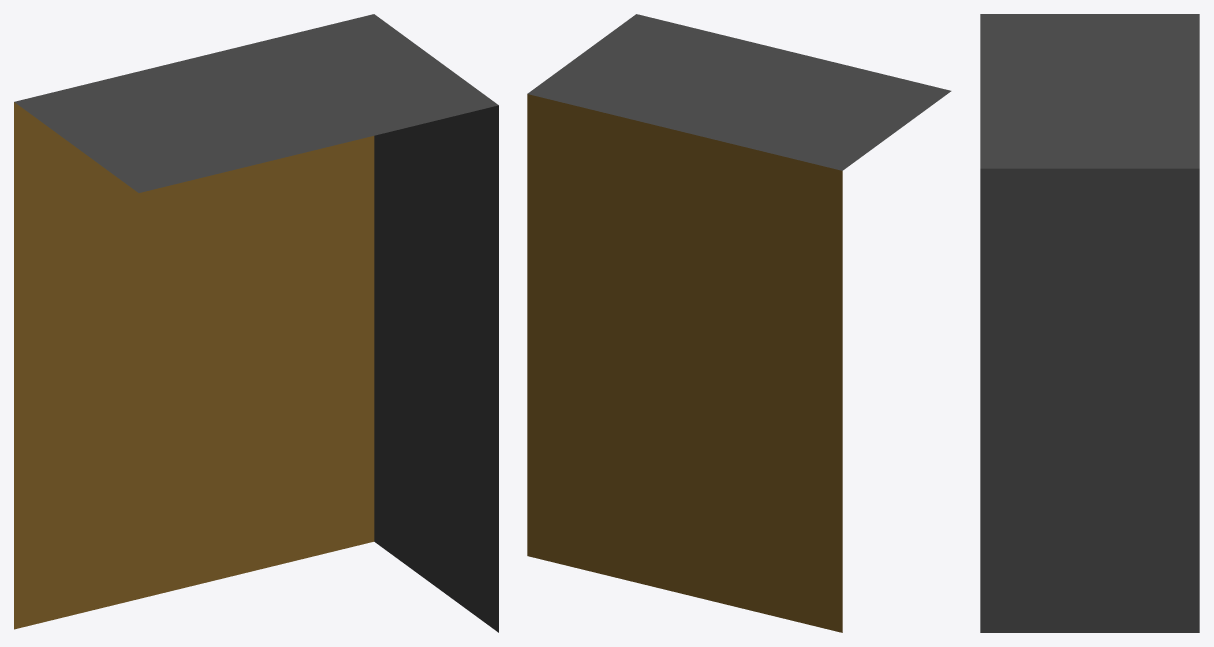
File: room.glb
The picture shows the model from 3 angles, left to right: view 1: azimuth 30°, elevation 25°; view 2: azimuth 150°, elevation 25°; view 3: azimuth 270°, elevation 25°; orthographic projection. The views are drawn at different scales.
Visible parts, largest first — view 1: Cube; view 2: Cube; view 3: Cube.
Boxes of the visible parts, x1,y1,x2,y2 form: Cube: [14, 14, 498, 632]; Cube: [527, 14, 951, 632]; Cube: [980, 14, 1199, 632].
Bounding box in the file's own units: 5 × 7 × 3.
